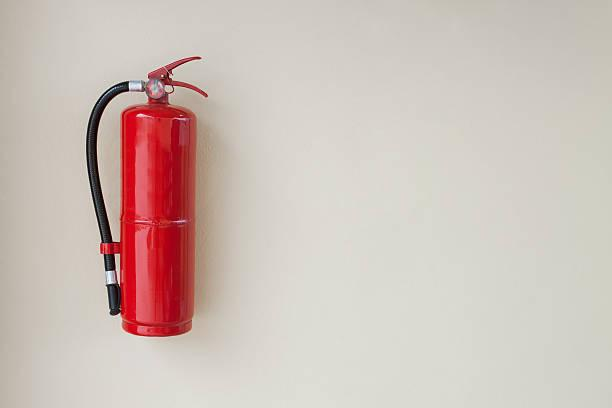wall-mounted: (81, 36, 230, 346)
